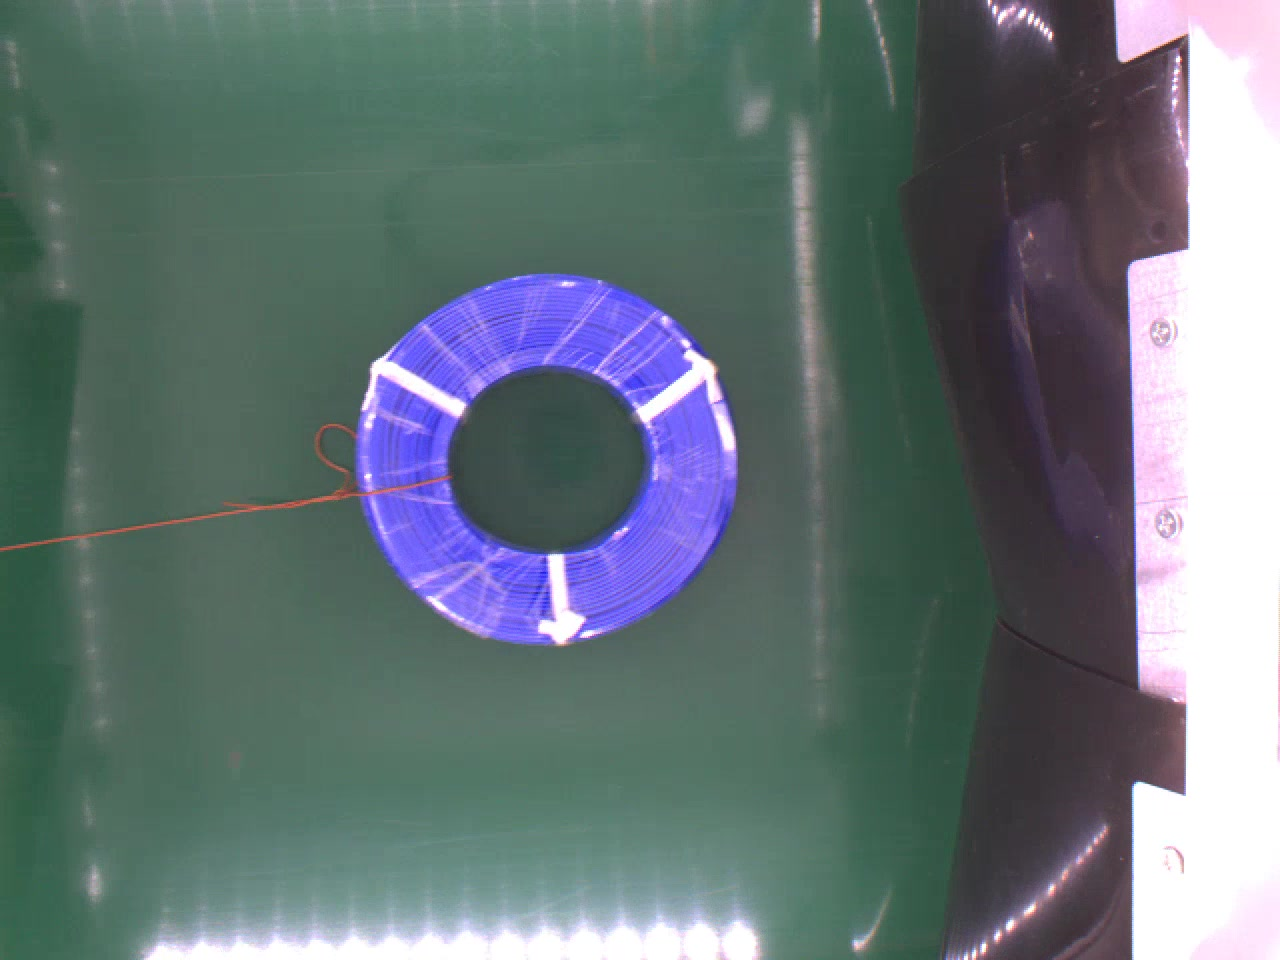blue: (344, 263, 736, 641)
